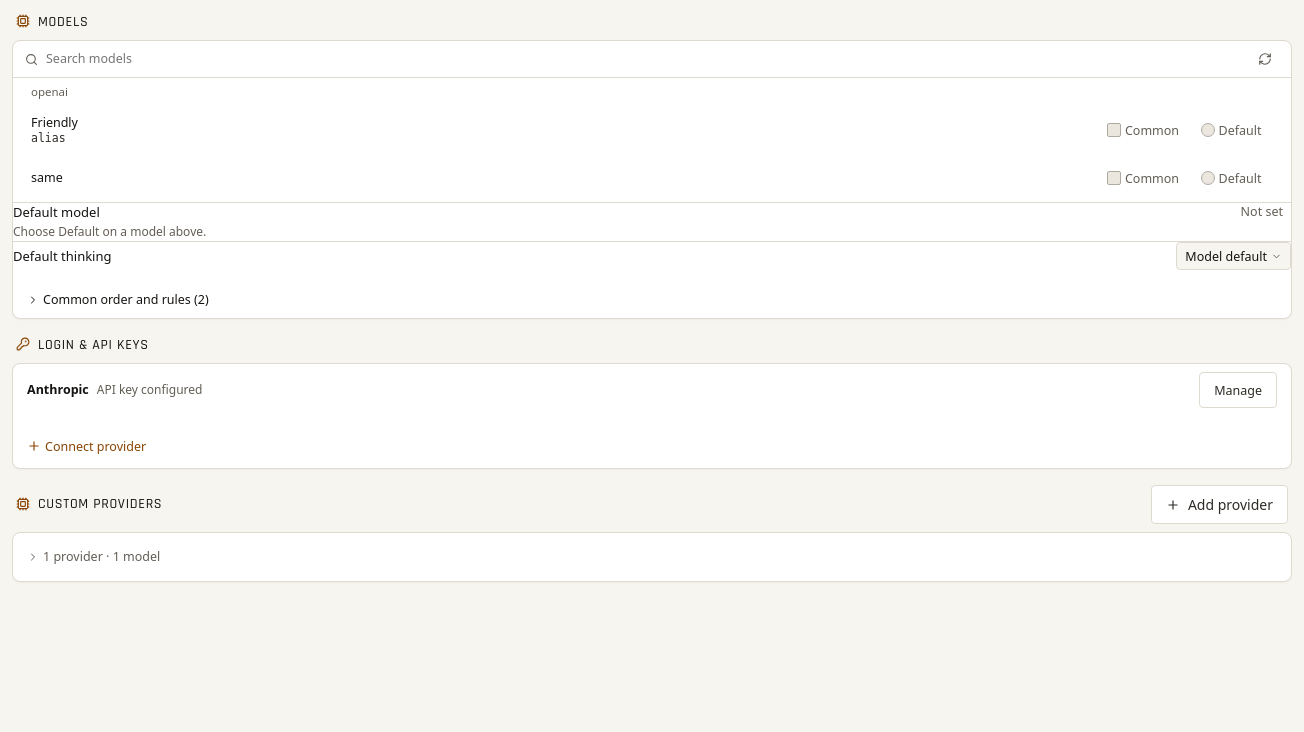
Test case: Models settings configuration and ownership › uses provider headings instead of repeated prefixes and keeps model controls when identity captions are deduplicated
expect the checkbox labelled "Common" in the row of "same" is shown: met, box [1107,171,1121,185]
expect the radio button labelled "Default" in the row of "same" is shown: met, box [1200,171,1214,185]
Type "openai/alias" into the dropdown named "Search available models".
click(644, 59); type("openai/alias")  # box [46,50,1243,68]
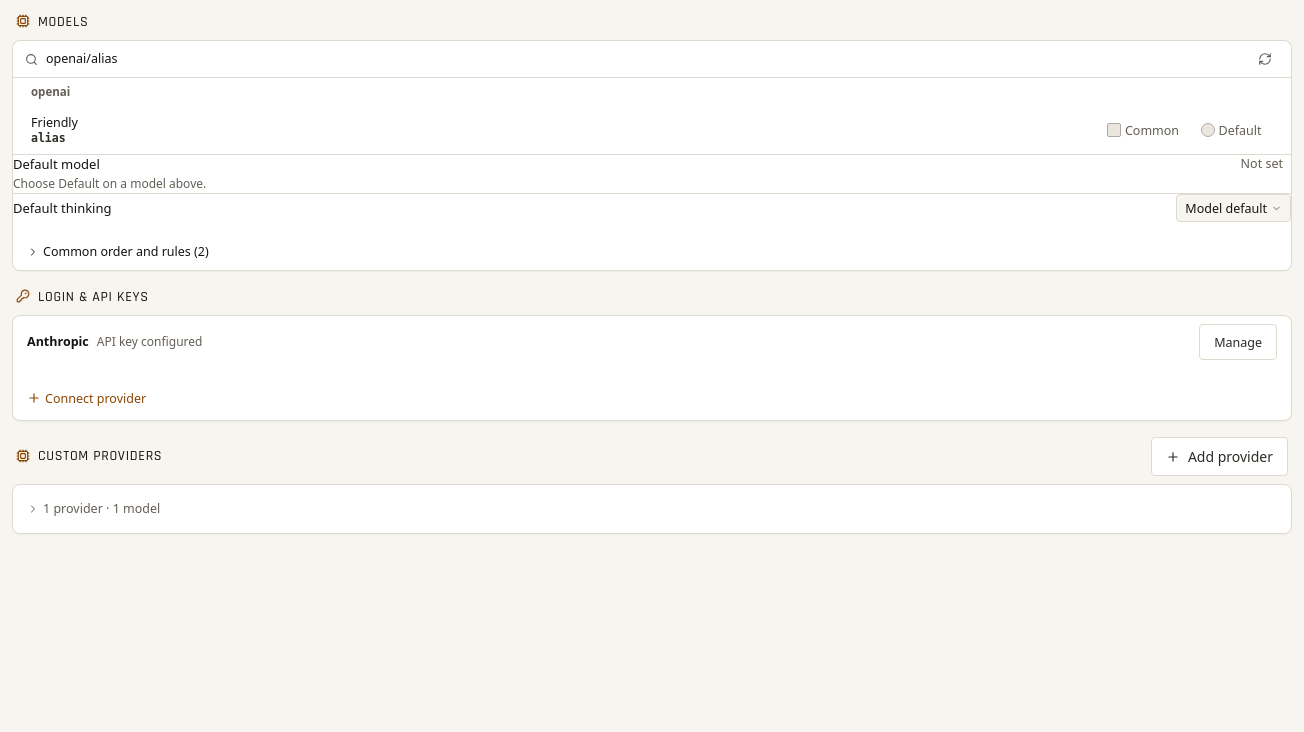
expect the text with class "search-match" reads "alias": met, box [31,132,66,146]
expect the number of rows is 1: met, box [19,106,1285,154]
